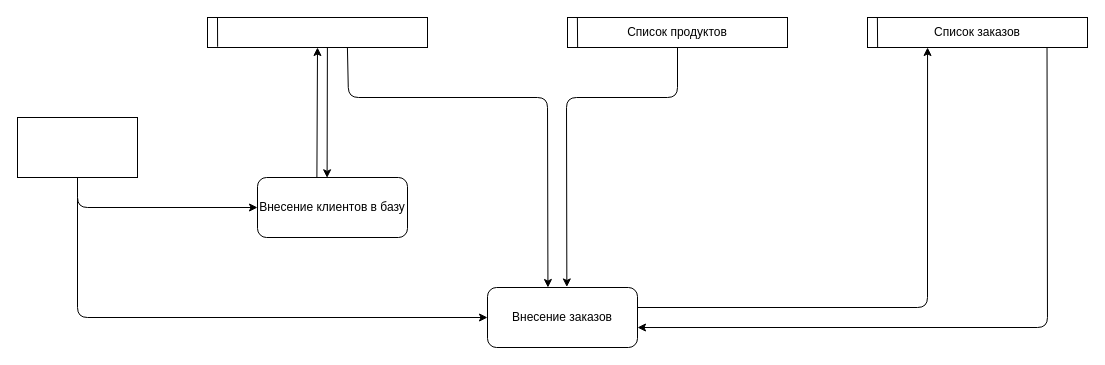
Image size: 1105x365. Some labels were removed from this diagram. The shapes that lost their labels are listed below. From the top down, each one's box as (x1, y1, x2, y2) in pixels, then its label:
(206, 16, 428, 48): Список клиентов
(16, 116, 138, 178): Заявки на заказ
